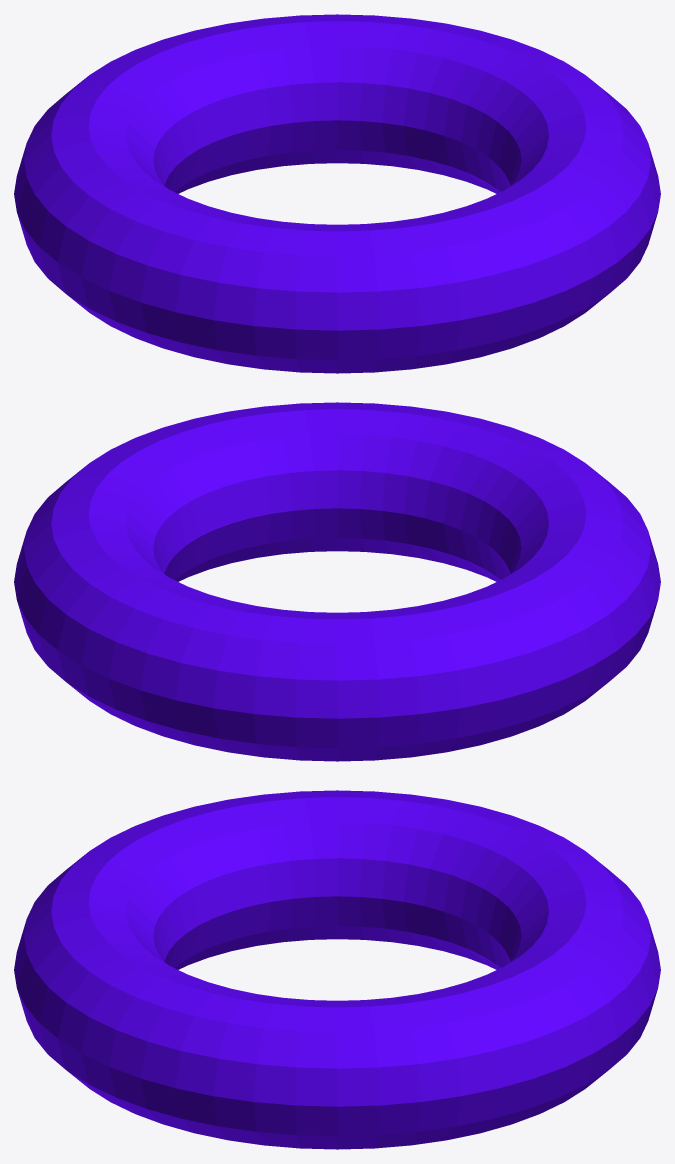
The picture shows the model from 3 angles, top to bottom: view 1: azimuth 30°, elevation 25°; view 2: azimuth 150°, elevation 25°; view 3: azimuth 270°, elevation 25°; orthographic projection.
Parts seen in each view (by area): view 1: torus; view 2: torus; view 3: torus.
Part boxes in pixels (left/top/right/bottom): torus: left=14, top=14, right=660, bottom=373; torus: left=14, top=402, right=660, bottom=761; torus: left=14, top=790, right=660, bottom=1149.
Size of the model in its own units: 2.6 by 0.6 by 2.6.
